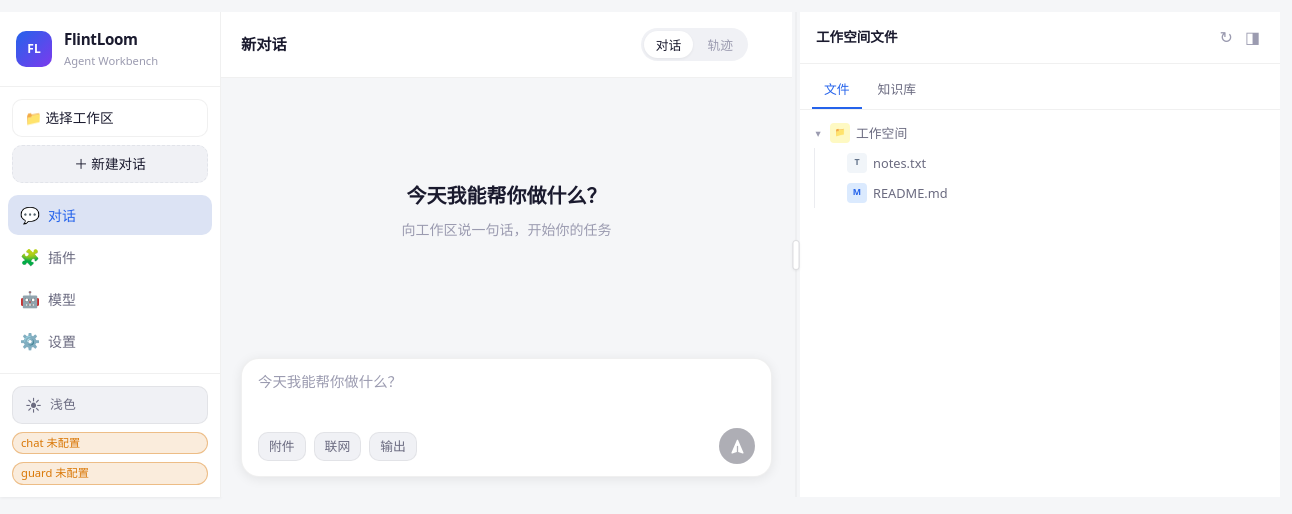
Scenario: App › keeps the later file preview when the first preview is delayed
The image size is (1292, 514).
Click the list item with class "file-label" at coordinates (910, 193), box [821, 178, 1276, 208]
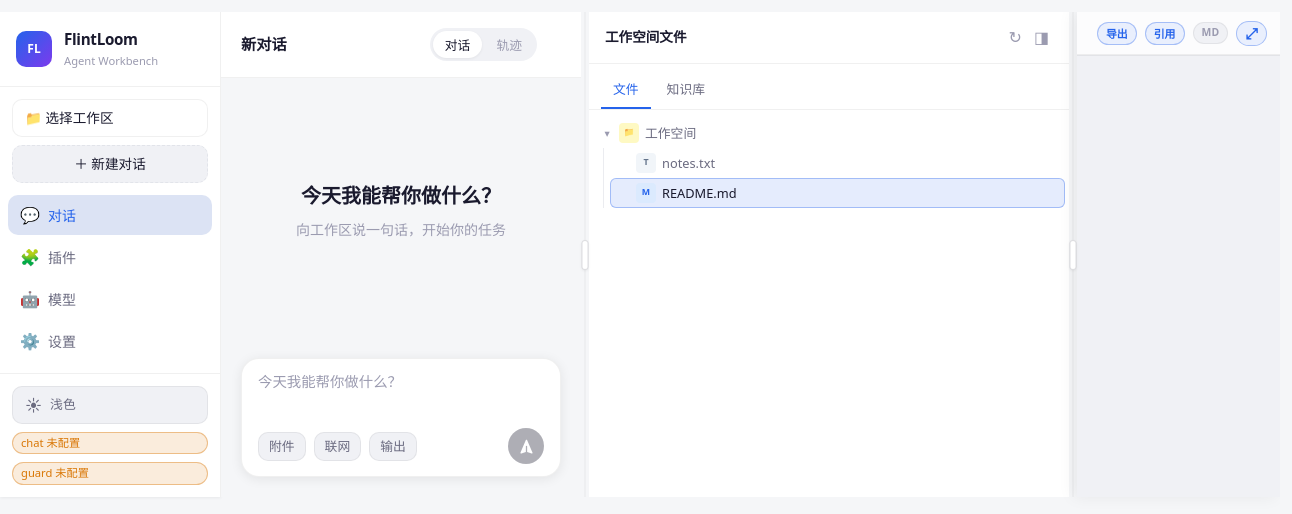
Click the list item with class "file-label" at coordinates (689, 163), box [610, 148, 1065, 178]
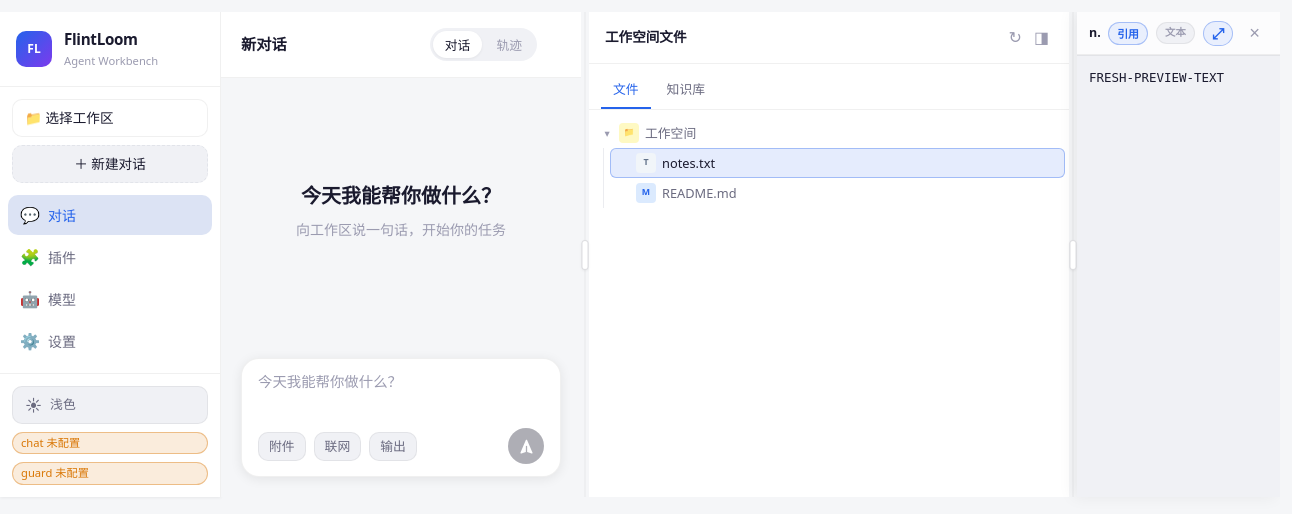
Expected: the text "FRESH-PREVIEW-TEXT" is shown, [1089, 70, 1224, 85]
